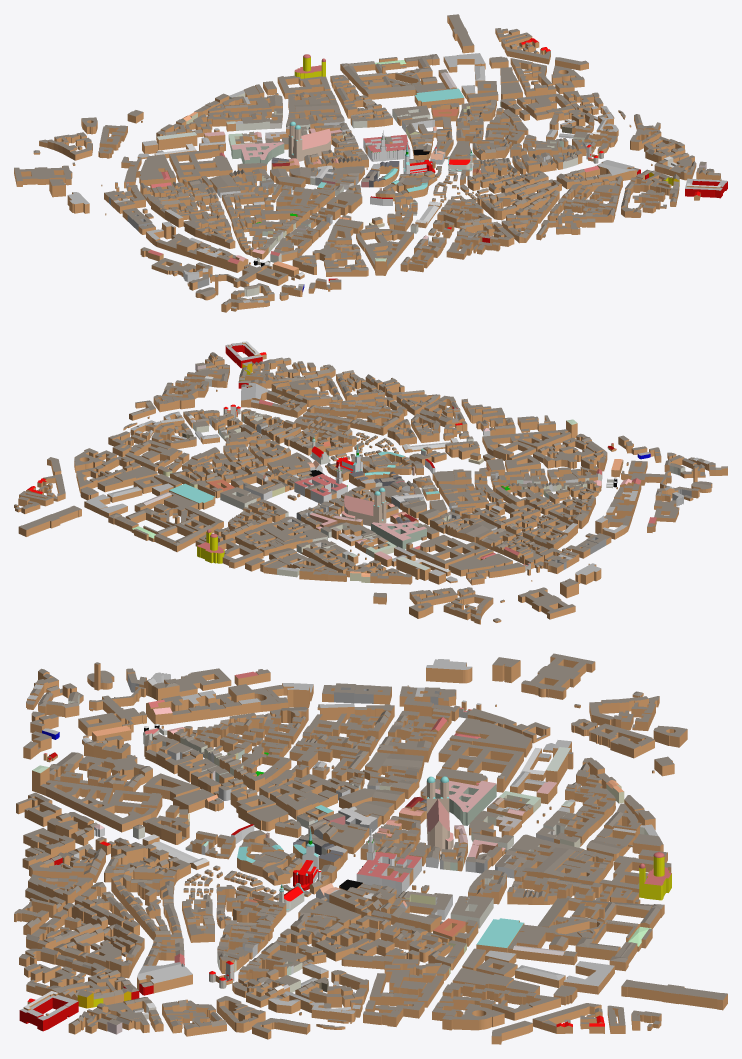
File: munich.glb
The picture shows the model from 3 angles, top to bottom: view 1: azimuth 30°, elevation 25°; view 2: azimuth 150°, elevation 25°; view 3: azimuth 270°, elevation 25°; orthographic projection. The views are drawn at different scales.
Visible parts, largest first — view 1: map_2.osm_buildings; view 2: map_2.osm_buildings; view 3: map_2.osm_buildings.
Part boxes in pixels (left/top/right/bottom): map_2.osm_buildings: left=14, top=14, right=727, bottom=312; map_2.osm_buildings: left=14, top=341, right=727, bottom=624; map_2.osm_buildings: left=14, top=653, right=727, bottom=1044.
Size of the model in its own units: 1610 by 98.57 by 1270.
